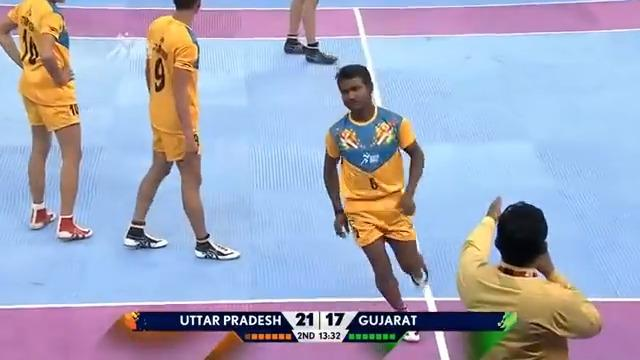Player: (122, 0, 240, 260), (322, 63, 429, 342), (0, 0, 93, 241), (283, 0, 338, 64)
referee: (455, 195, 603, 358)
